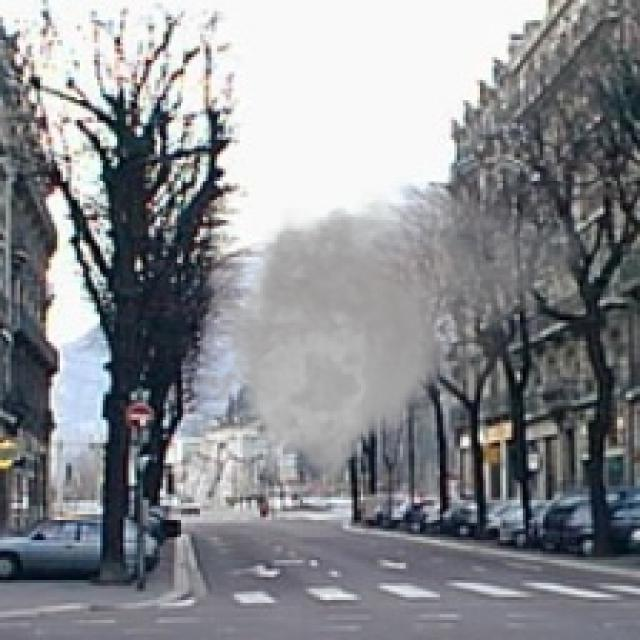smoke: (180, 171, 591, 520)
